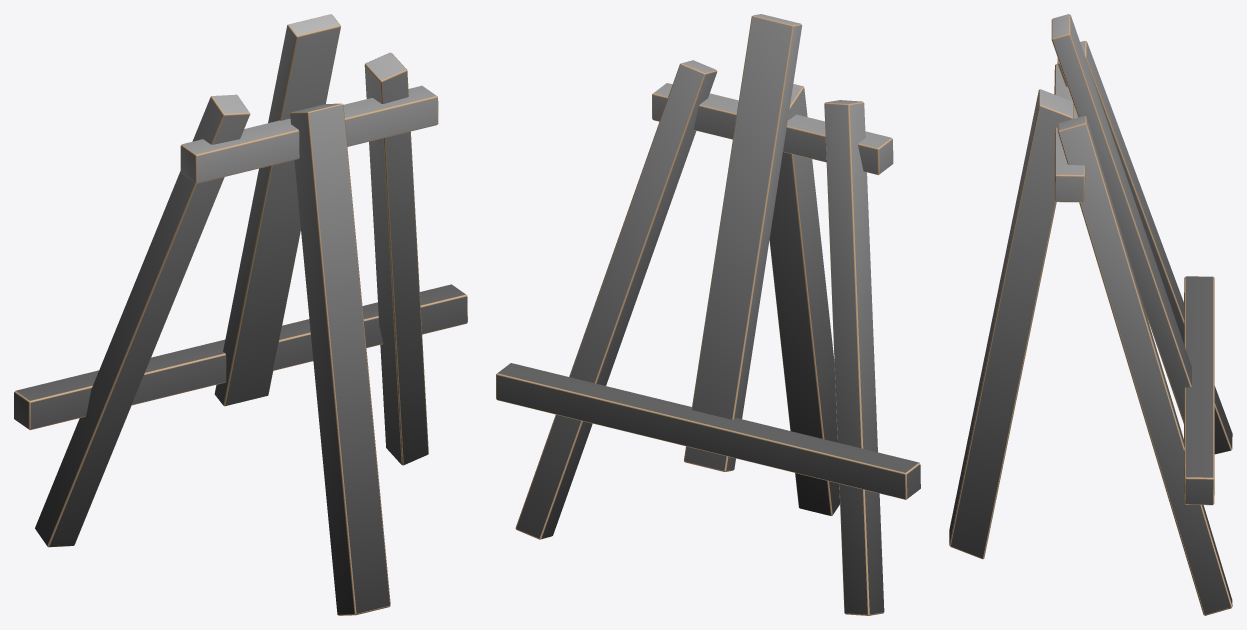
The model's file is art-room-easel-001.glb.
3 renders of one model, left to right at view 1: azimuth 30°, elevation 25°; view 2: azimuth 150°, elevation 25°; view 3: azimuth 270°, elevation 25°, orthographic. The views are drawn at different scales.
Parts seen in each view (by area): view 1: easel.001; view 2: easel.001; view 3: easel.001.
Boxes of the visible parts, x1,y1,x2,y2 form: easel.001: [14, 14, 467, 615]; easel.001: [496, 14, 920, 615]; easel.001: [949, 14, 1232, 615].
Size of the model in its own units: 1.31 by 1.59 by 0.7728.
Materials: 1 (1 with a texture image).
